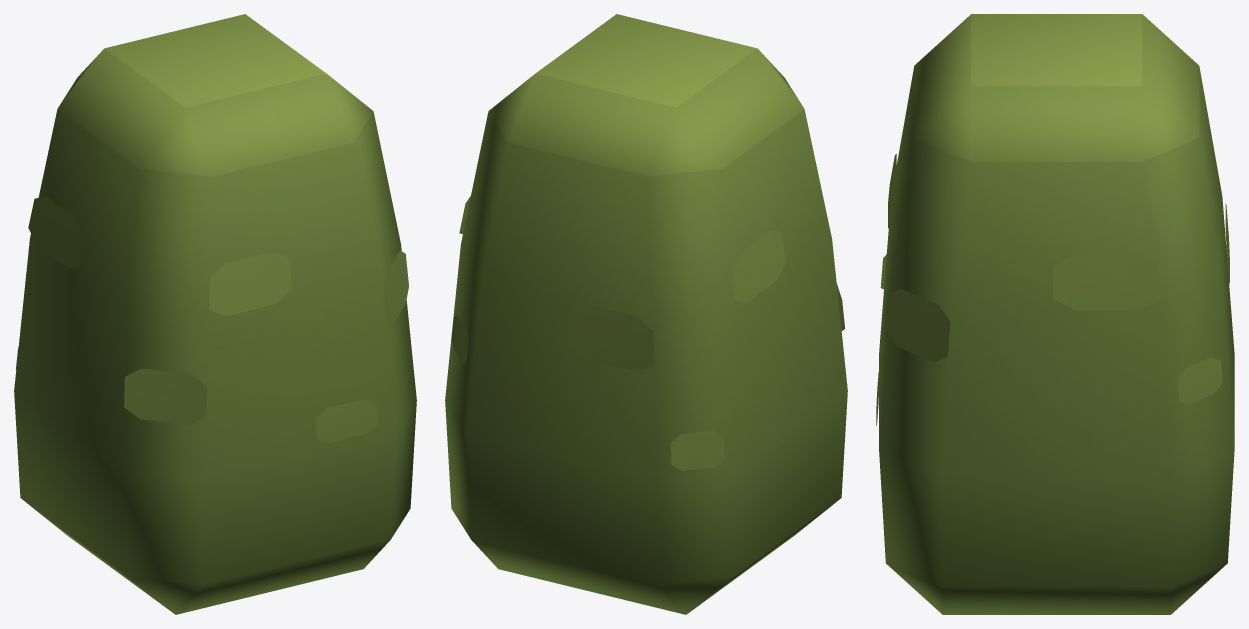
File: hedge_element_standalone.fbx
3 renders of one model, left to right at view 1: azimuth 30°, elevation 25°; view 2: azimuth 150°, elevation 25°; view 3: azimuth 270°, elevation 25°, orthographic. The views are drawn at different scales.
Visible parts, largest first — view 1: hedge_element_standalone; view 2: hedge_element_standalone; view 3: hedge_element_standalone.
Part boxes in pixels (x1=…): hedge_element_standalone: x1=14, y1=14, x2=416, y2=614; hedge_element_standalone: x1=445, y1=14, x2=847, y2=614; hedge_element_standalone: x1=876, y1=14, x2=1234, y2=614.
Size of the model in its own units: 125 by 200 by 126.
